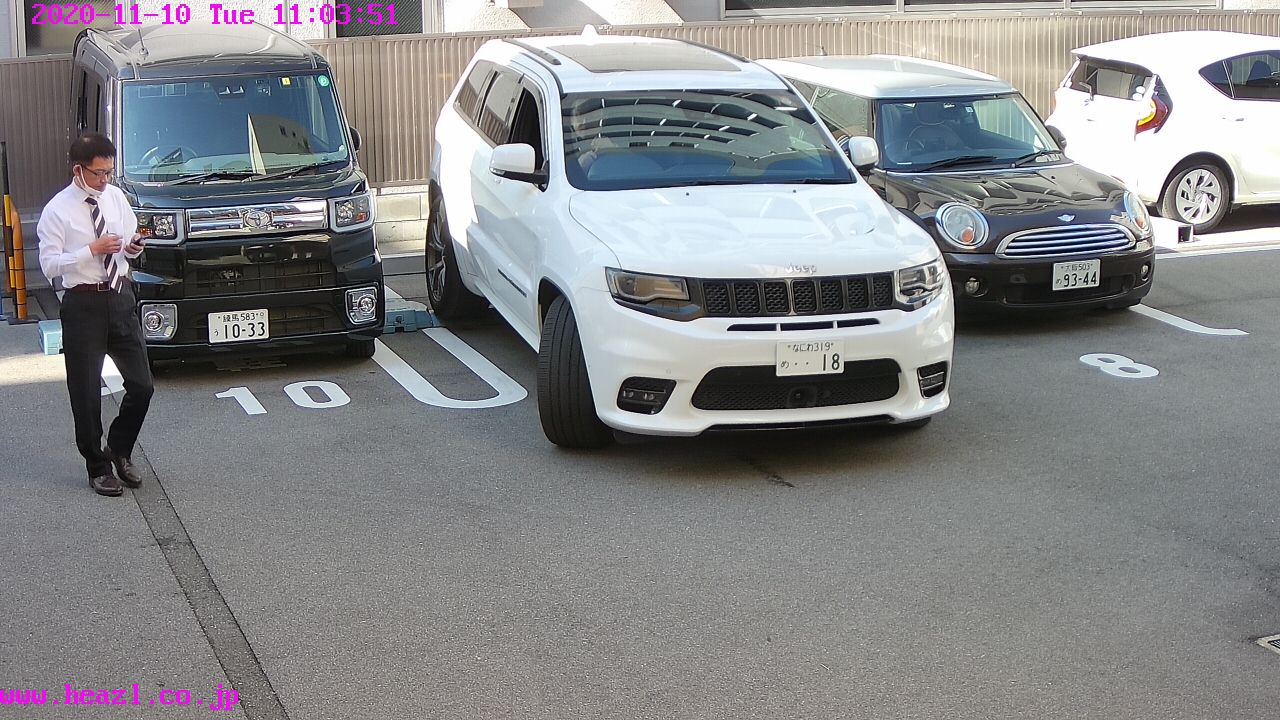number_plate: (774, 335, 845, 376), (206, 311, 270, 339), (1051, 262, 1099, 287)
